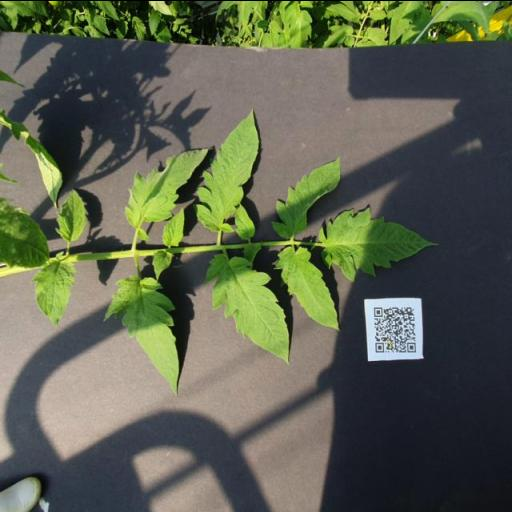Healthy: (204, 252, 293, 364), (103, 273, 181, 399), (318, 206, 438, 278), (194, 108, 260, 232), (122, 142, 216, 226), (269, 154, 343, 238), (272, 244, 344, 330), (29, 254, 77, 326), (55, 186, 87, 240)
